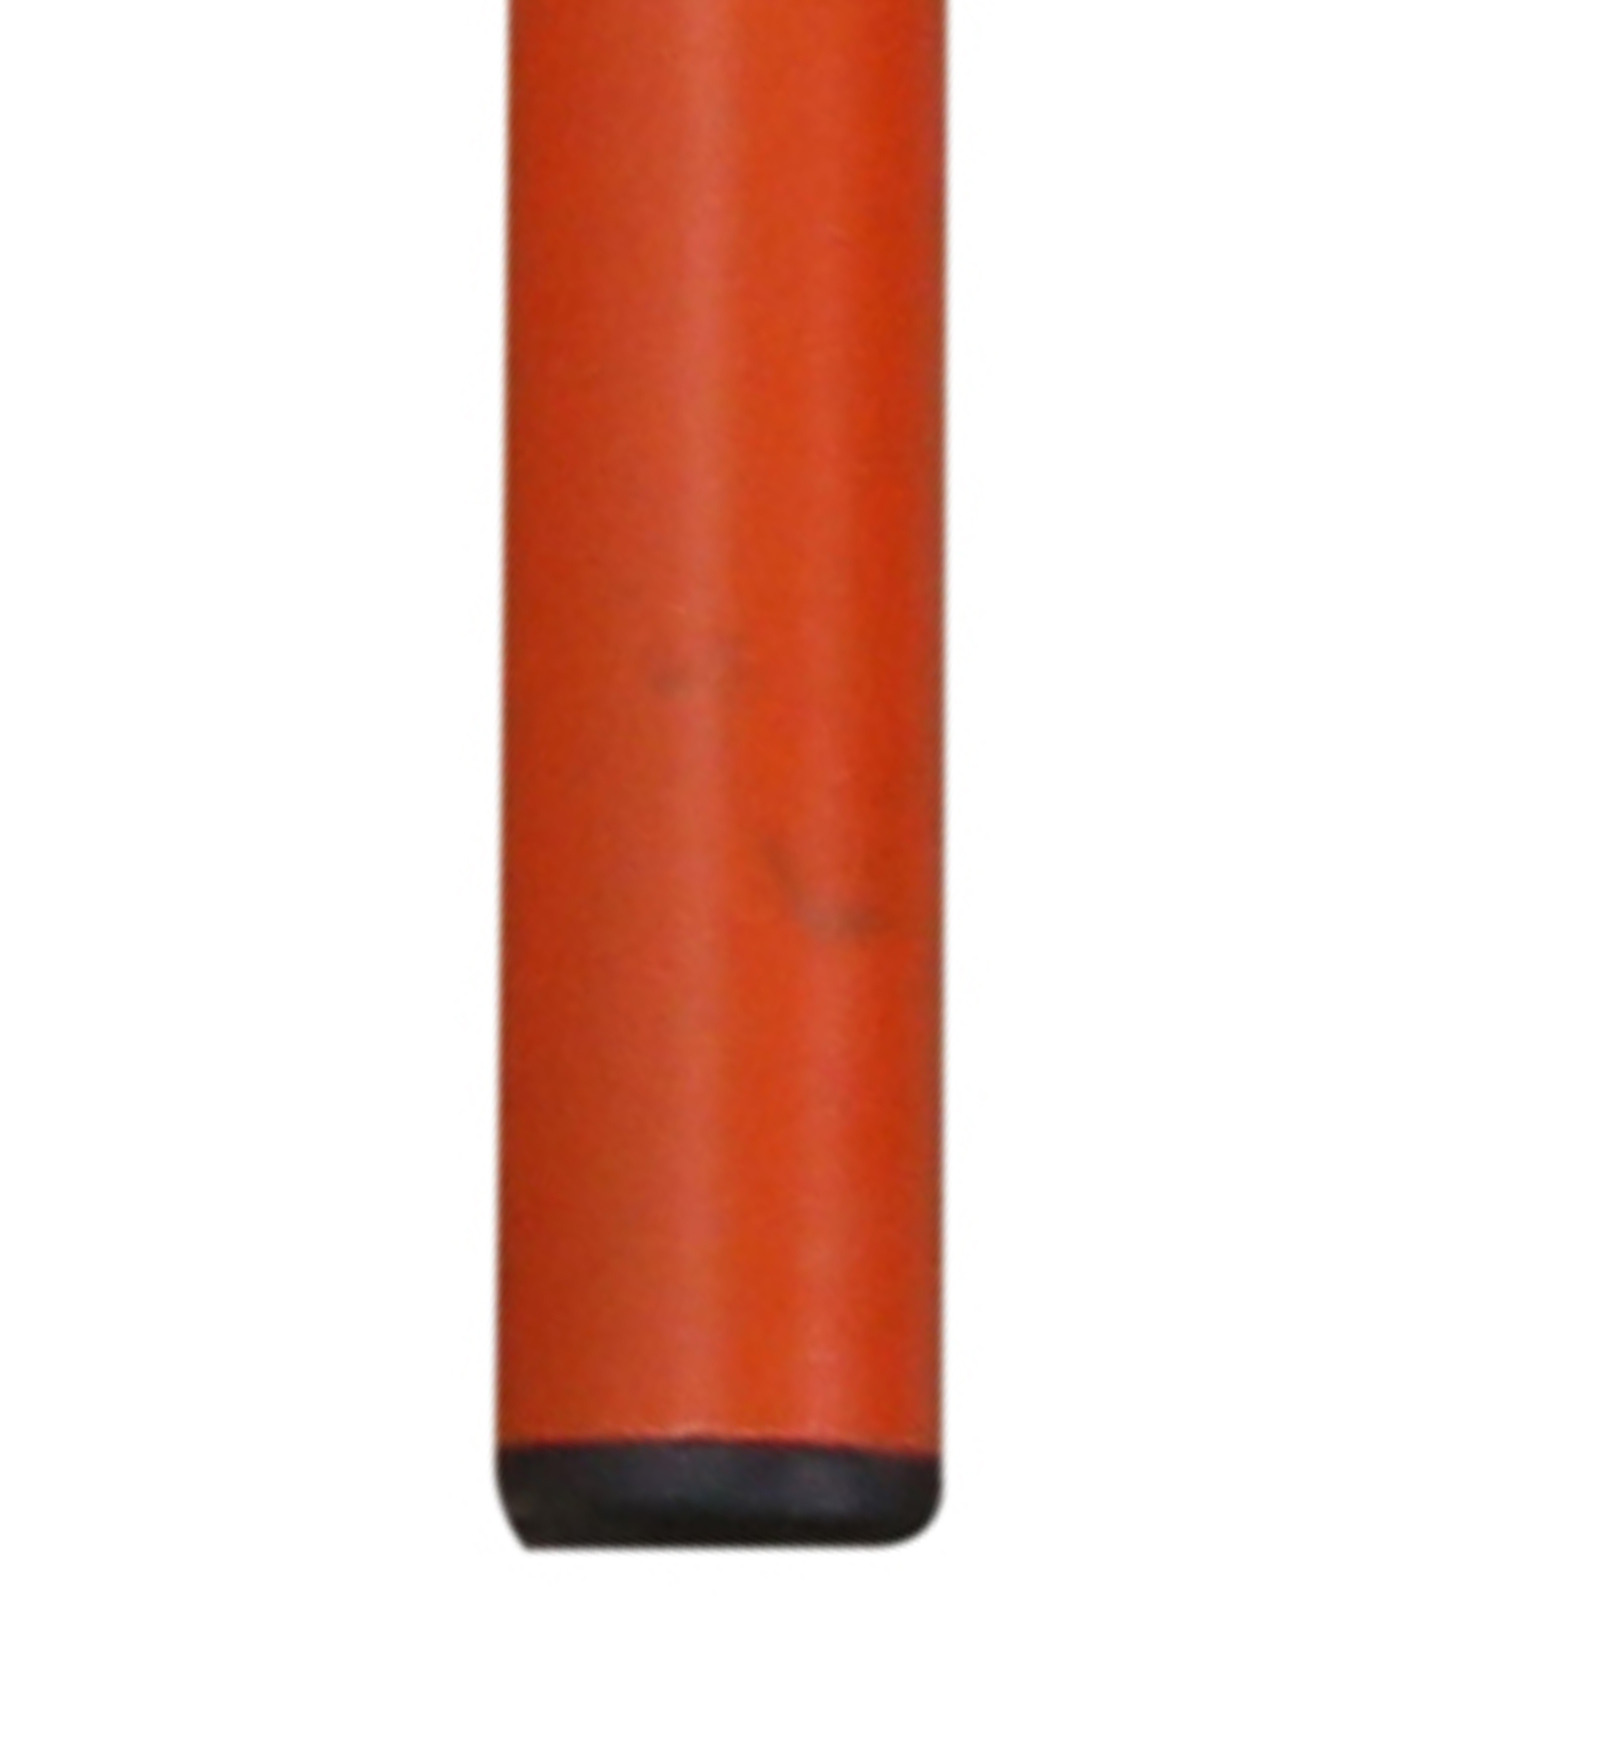Kell Folding Chair in Orange Color by Bohemiana: (484, 9, 982, 1614)
